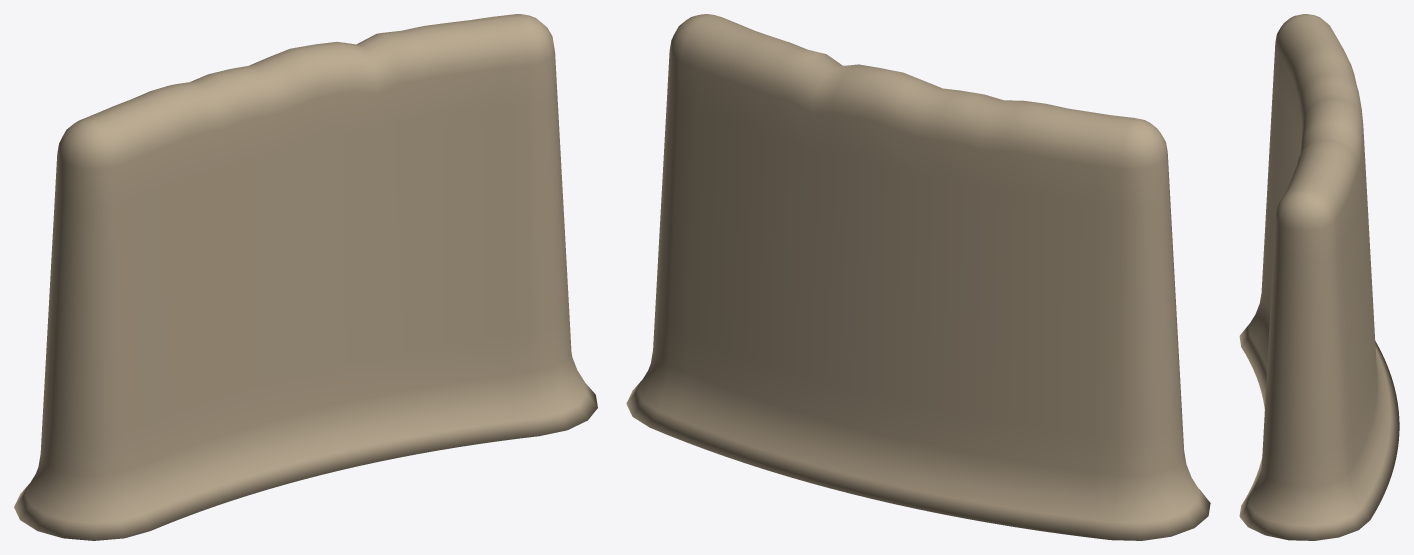
The model's file is KFB_Wall_curved_ring_r2_capAB.r1.glb.
3 views of the same model, side by side, from view 1: azimuth 30°, elevation 25°; view 2: azimuth 150°, elevation 25°; view 3: azimuth 270°, elevation 25° (orthographic). The views are drawn at different scales.
Parts seen in each view (by area): view 1: KFB_Wall_curved_ring_r2_capAB; view 2: KFB_Wall_curved_ring_r2_capAB; view 3: KFB_Wall_curved_ring_r2_capAB.
Part boxes in pixels (x1,y1,x2,y2): KFB_Wall_curved_ring_r2_capAB: (14,14,597,540); KFB_Wall_curved_ring_r2_capAB: (626,14,1210,540); KFB_Wall_curved_ring_r2_capAB: (1239,14,1399,540).
Bounding box in the file's own units: 5.48 × 3.64 × 1.62.
